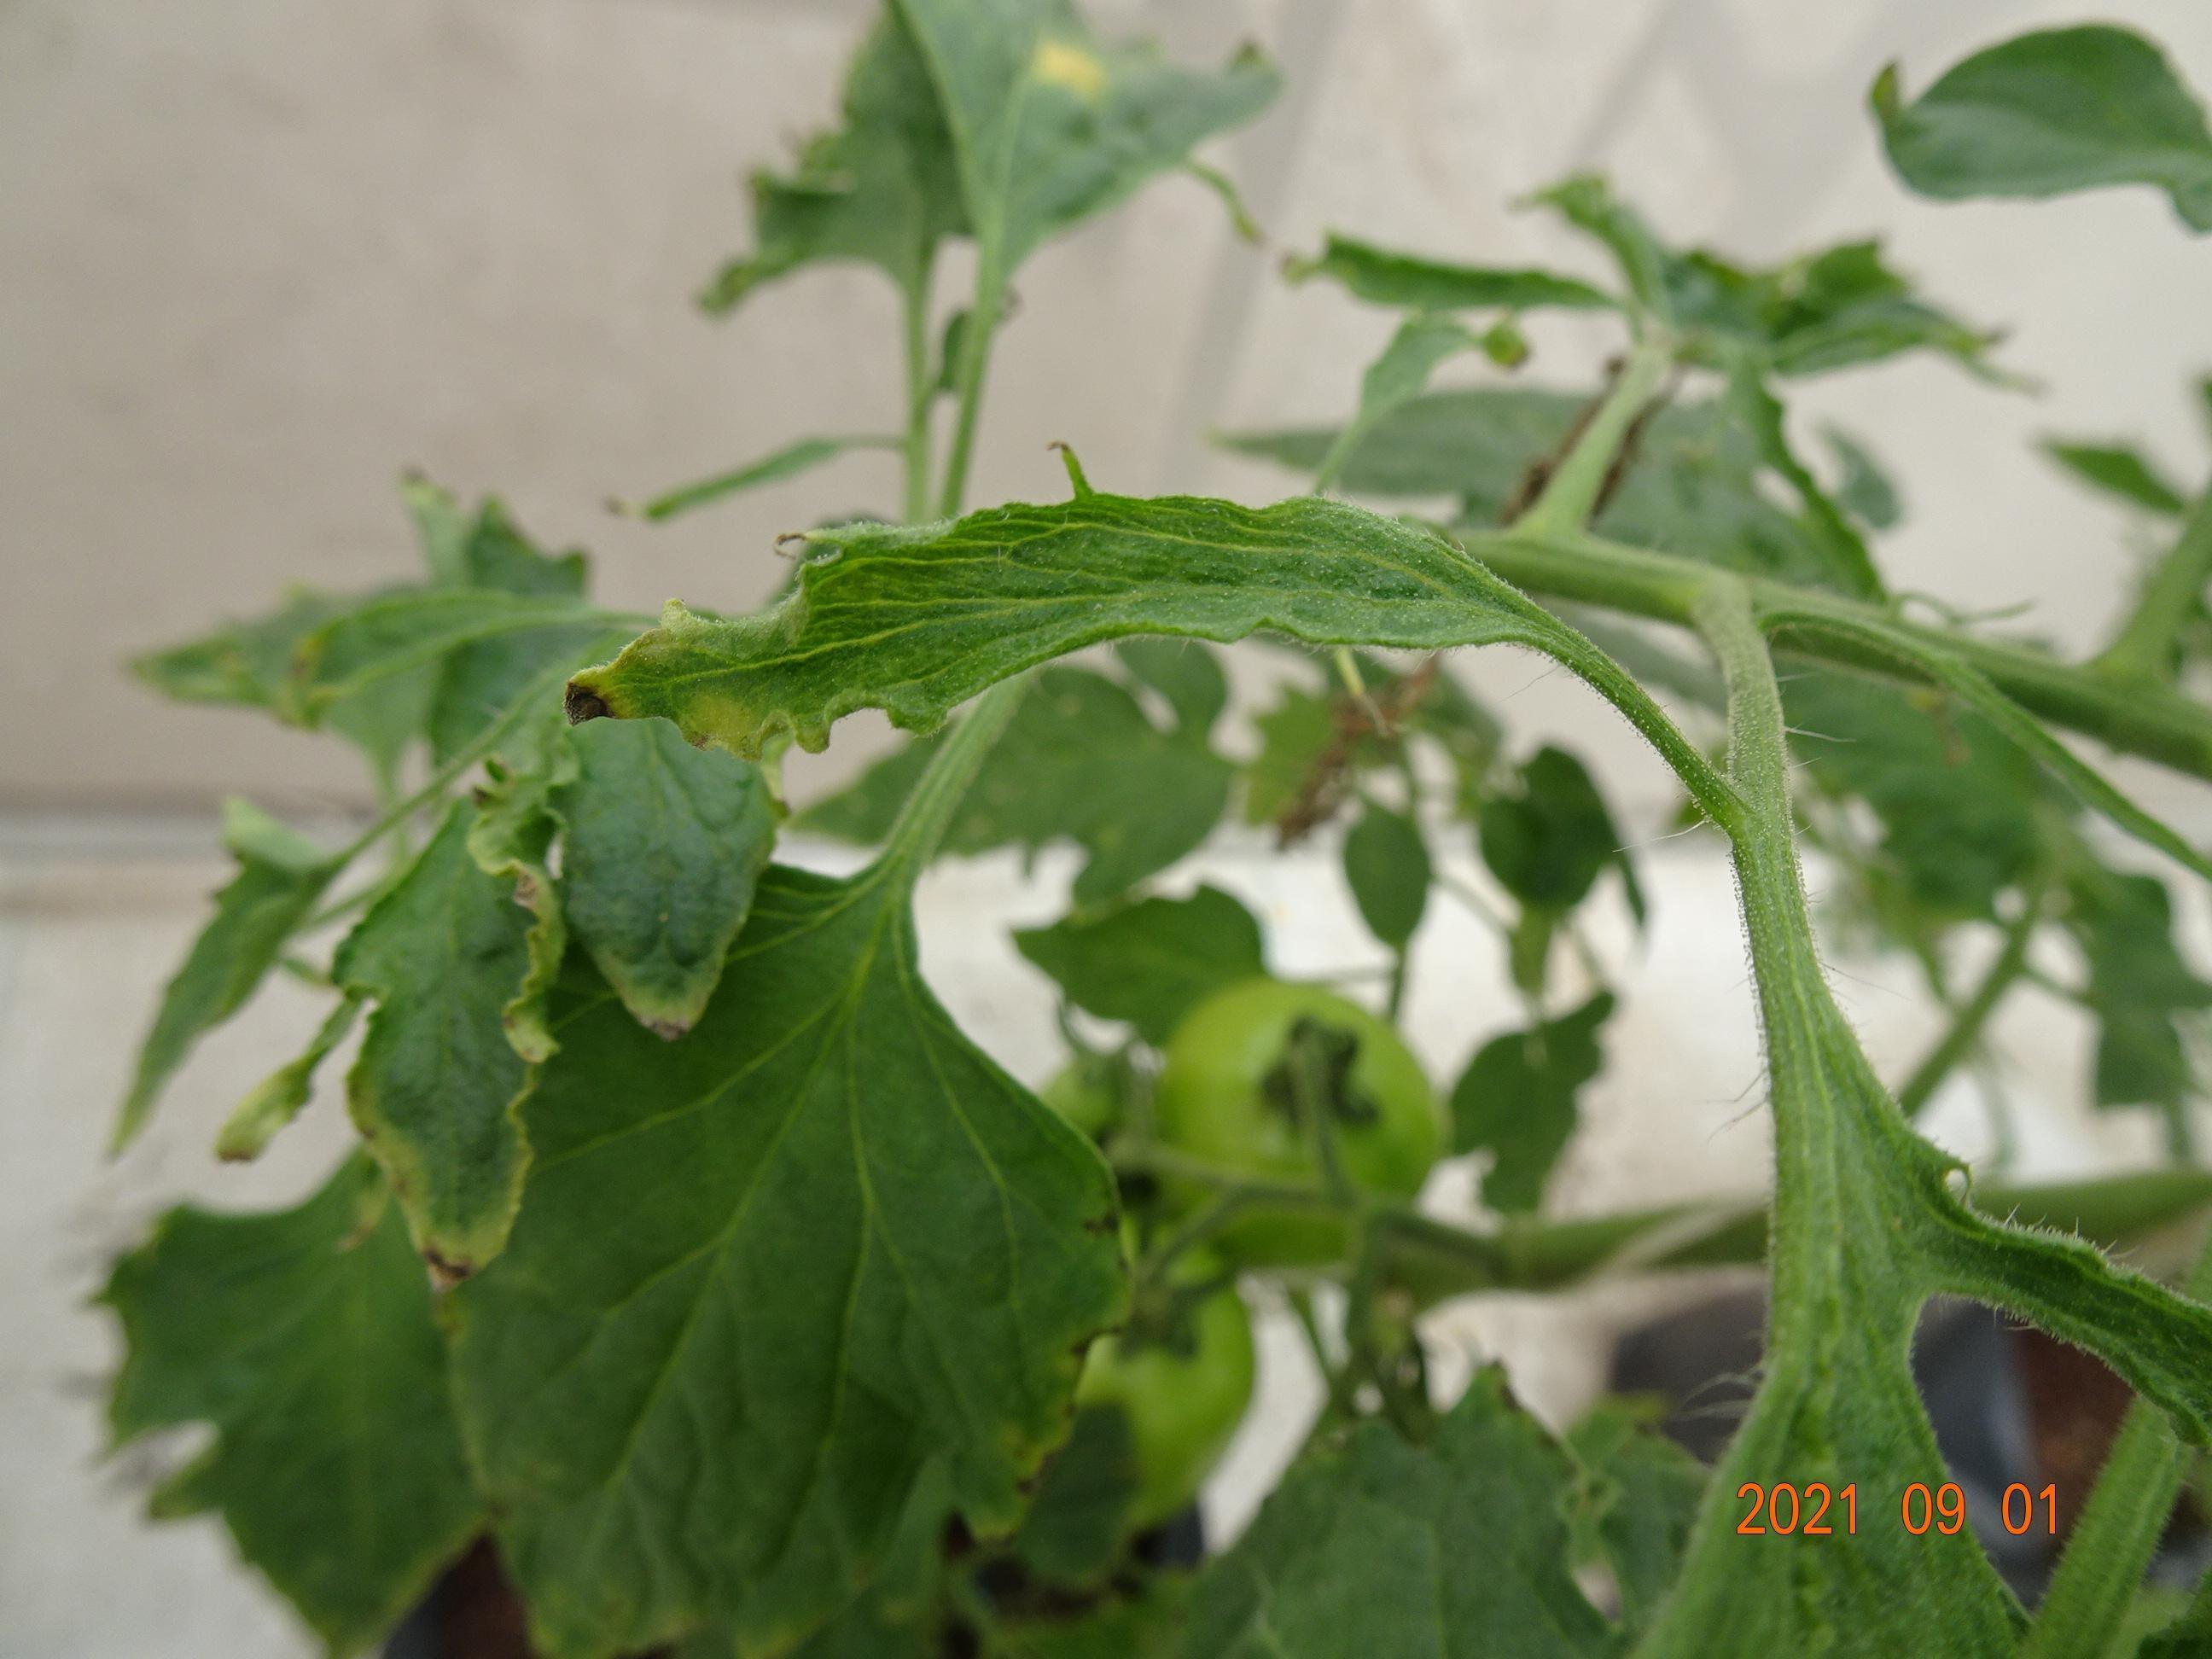Rugose leaf: (444, 856, 1127, 1656), (566, 493, 1728, 826), (333, 800, 566, 1279)
Rugose stem: (1456, 533, 2012, 1256)
